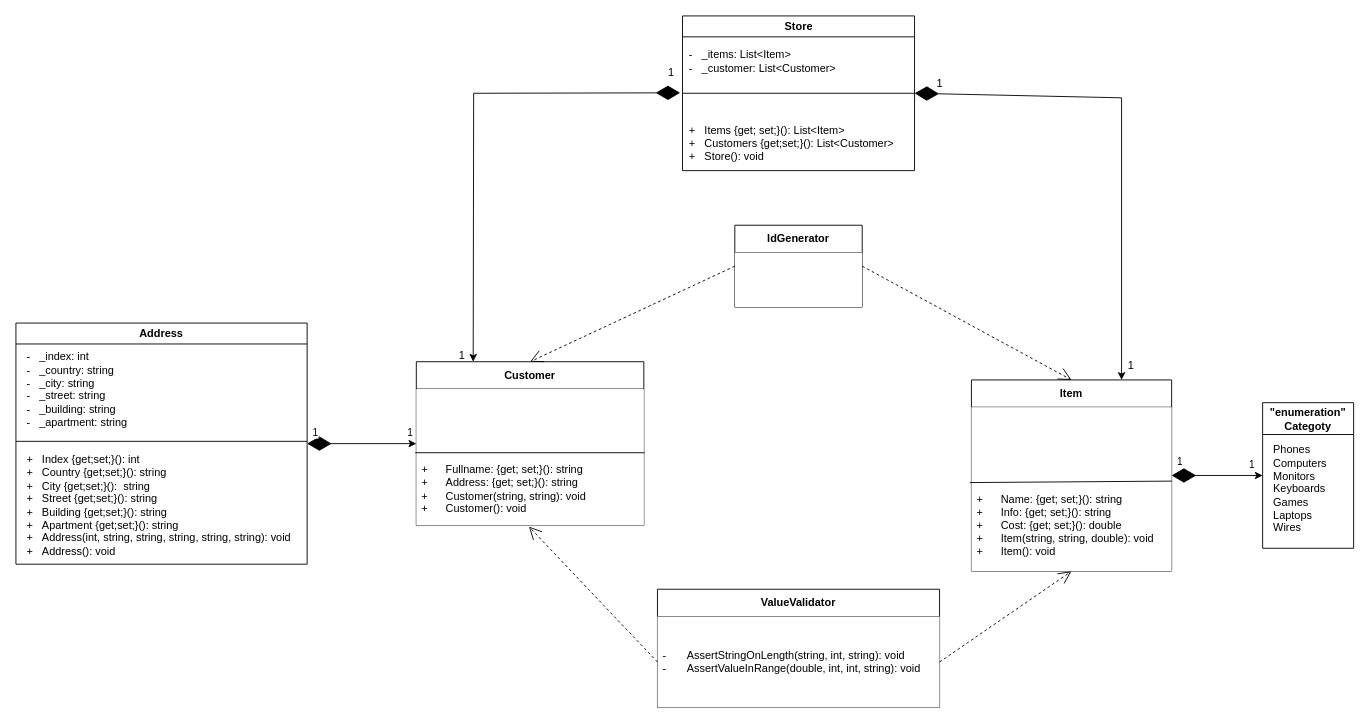
This 1370x723 diagram has some shape labels left out. Here are the shapes that lost their labels. From the top down, the centre of each, then its label:
the point at 798,265: - _nextId: int
the point at 798,293: - GetNextId(): int
the point at 529,420: - _id: readonly int - _fullname: string - _address: string
the point at 1071,443: - _id: readonly int - _name: string - _info: string - _cost: double
